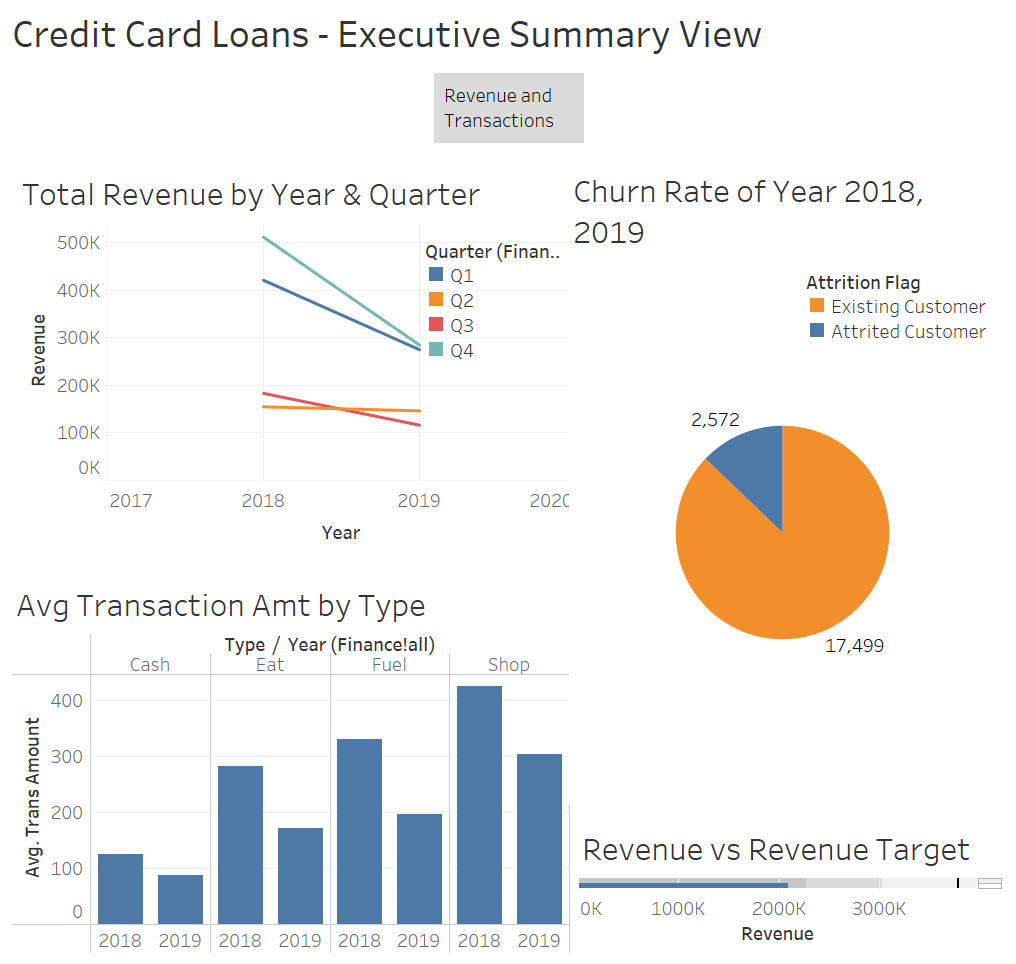

Layout of this report page (visuals, bound fields, positions):
{"tool":"tableau","page":{"name":"Executive Summary","canvas":[1000,800],"ordinal":1},"visuals":[{"type":"worksheet","title":"Churn Rate of Year","mark":"Pie","box":[561,4,427,640]},{"type":"worksheet","title":"Total Revenue by Year & Quarter","mark":"Automatic","rows":["Revenue"],"cols":["Year (Finance!all)"],"box":[10,7,557,385]},{"type":"legend","title":"Total Revenue by Year & Quarter","param":"[federated.11b5pey03qgv9p16d8ego019tgdf].[none:Quarter (Finance!all):nk]","box":[416,77,140,126]},{"type":"legend","title":"Churn Rate of Year","param":"[federated.11b5pey03qgv9p16d8ego019tgdf].[none:Attrition_Flag:nk]","box":[797,108,187,76]},{"type":"worksheet","title":"Average Transaction Amount by Type","mark":"Bar","rows":["Trans_Amount"],"cols":["Type","Year (Finance!all)"],"box":[4,418,558,377]},{"type":"worksheet","title":"Revenue vs Revenue Target","mark":"Automatic","cols":["Revenue"],"box":[570,662,424,124]}]}

Visuals, with their boxes on the page's 1000x800 design canvas (x1, y1, x2, y2). These are canvas units, not pixel positions in the 1016x964 screenshot, which may show the page scaled, cropped or inside an application window:
"Churn Rate of Year" worksheet (Pie marks): crop(561, 4, 988, 644)
"Total Revenue by Year & Quarter" worksheet: crop(10, 7, 567, 392)
"Total Revenue by Year & Quarter" legend: crop(416, 77, 556, 203)
"Churn Rate of Year" legend: crop(797, 108, 984, 184)
"Average Transaction Amount by Type" worksheet (Bar marks): crop(4, 418, 562, 795)
"Revenue vs Revenue Target" worksheet: crop(570, 662, 994, 786)
